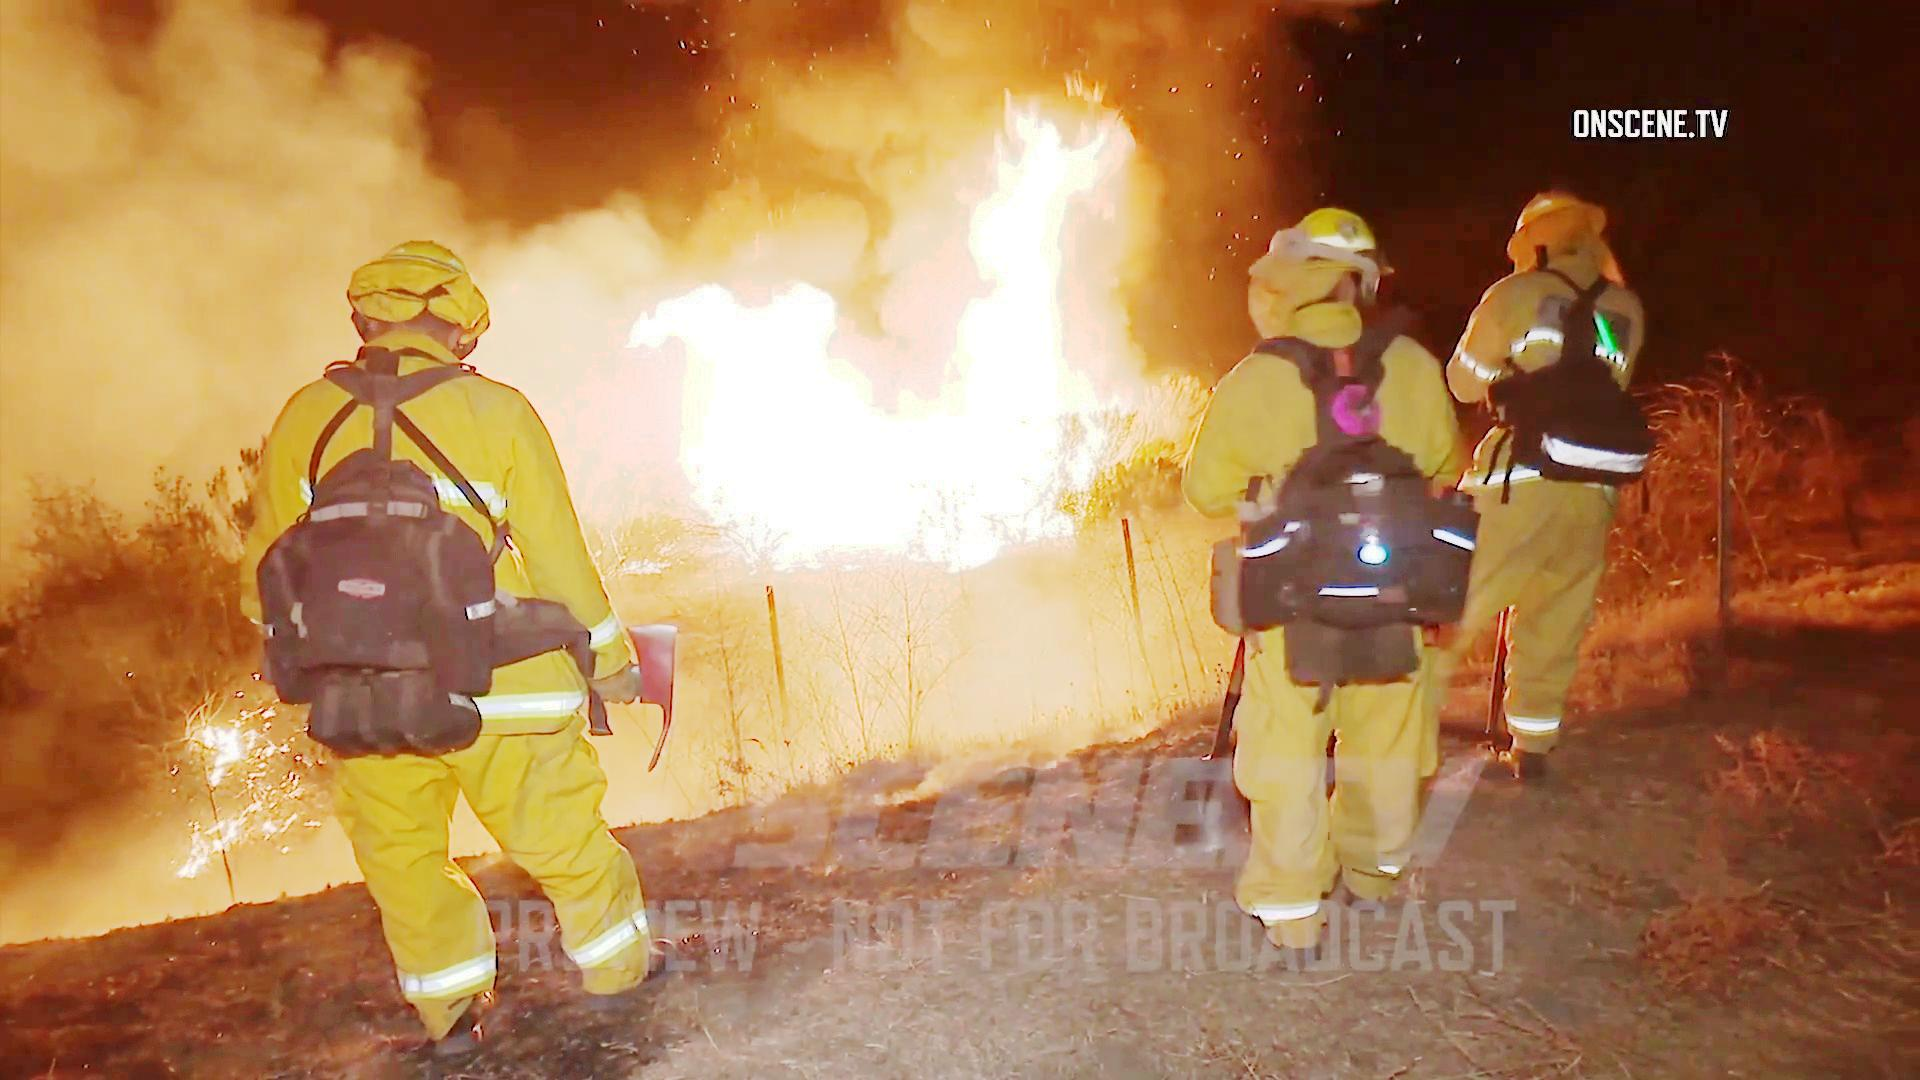fire: (628, 88, 1098, 553)
smoke: (0, 9, 298, 334)
